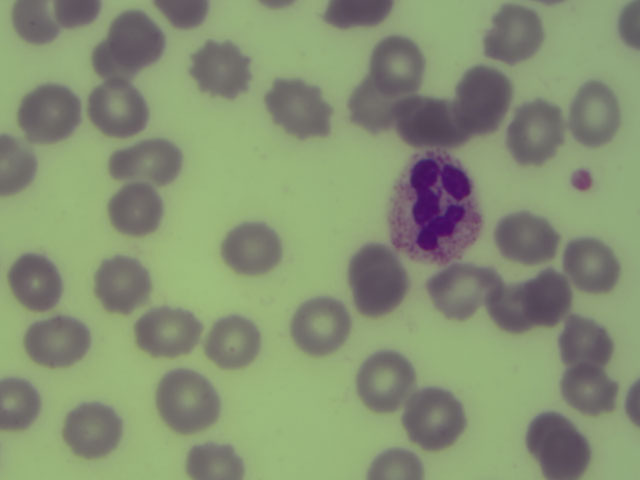Platelets: (574, 171, 593, 194)
RBC: (158, 372, 226, 431), (270, 80, 334, 142), (355, 247, 411, 317), (103, 140, 183, 188), (191, 44, 255, 103), (438, 260, 499, 320), (20, 86, 83, 143), (8, 253, 66, 313), (294, 292, 348, 354), (67, 403, 125, 460), (88, 81, 148, 135), (571, 84, 620, 148), (412, 390, 468, 446), (26, 316, 92, 363), (456, 67, 506, 128), (363, 349, 413, 410), (564, 241, 619, 296), (512, 103, 563, 162), (489, 8, 543, 63), (111, 182, 165, 236), (112, 11, 166, 65), (402, 90, 455, 145), (563, 320, 615, 376), (225, 225, 283, 275), (140, 307, 200, 355), (350, 77, 400, 134), (212, 313, 262, 368), (502, 215, 558, 264), (373, 38, 424, 90), (564, 364, 611, 419), (101, 258, 150, 310), (532, 414, 577, 464), (183, 445, 246, 480), (326, 2, 394, 33), (3, 135, 38, 195), (2, 378, 44, 428), (547, 434, 592, 480), (10, 5, 55, 49), (538, 271, 572, 328), (365, 451, 424, 480), (95, 41, 141, 78), (498, 280, 534, 327), (159, 1, 215, 27), (50, 1, 105, 25), (618, 3, 640, 48), (626, 379, 639, 429)
WBC: (385, 146, 485, 265)
